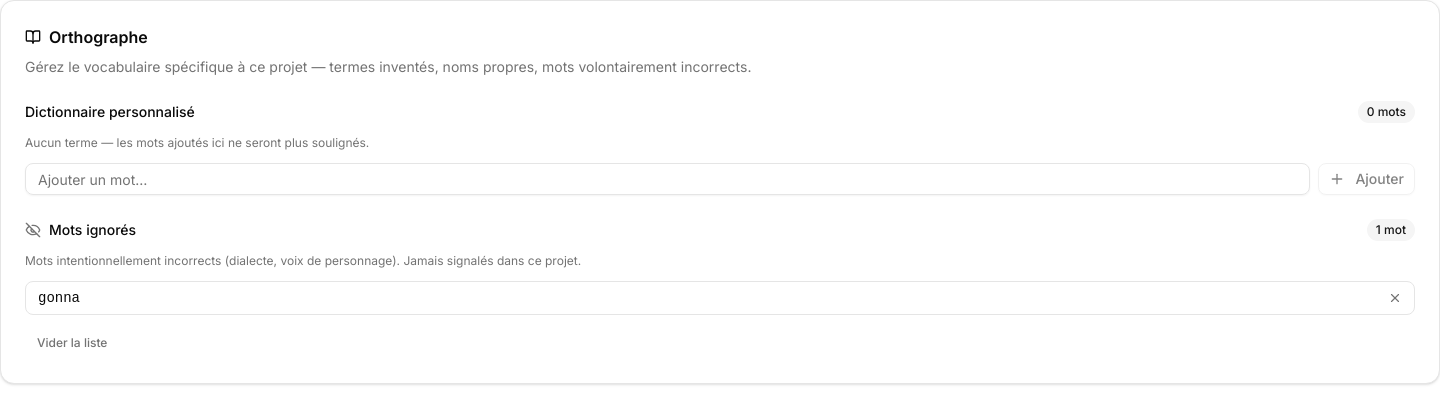
Test case: SpellCheckSettingsCard › removes a word from the ignored list on delete click
Click the button named "supprimer gonna" at (1395, 298), box [1388,291,1402,305]
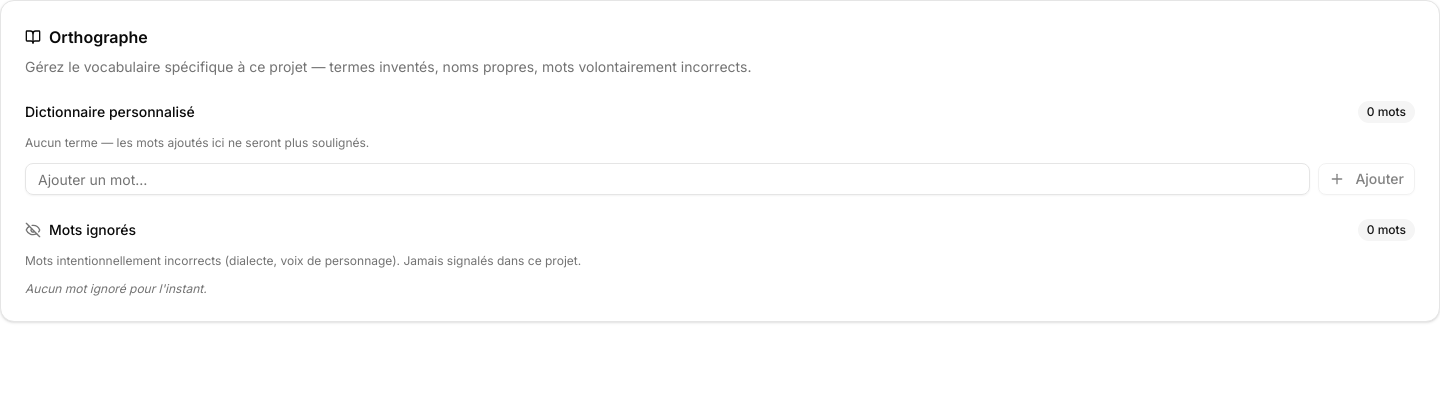
Check: the text "gonna" is gone
